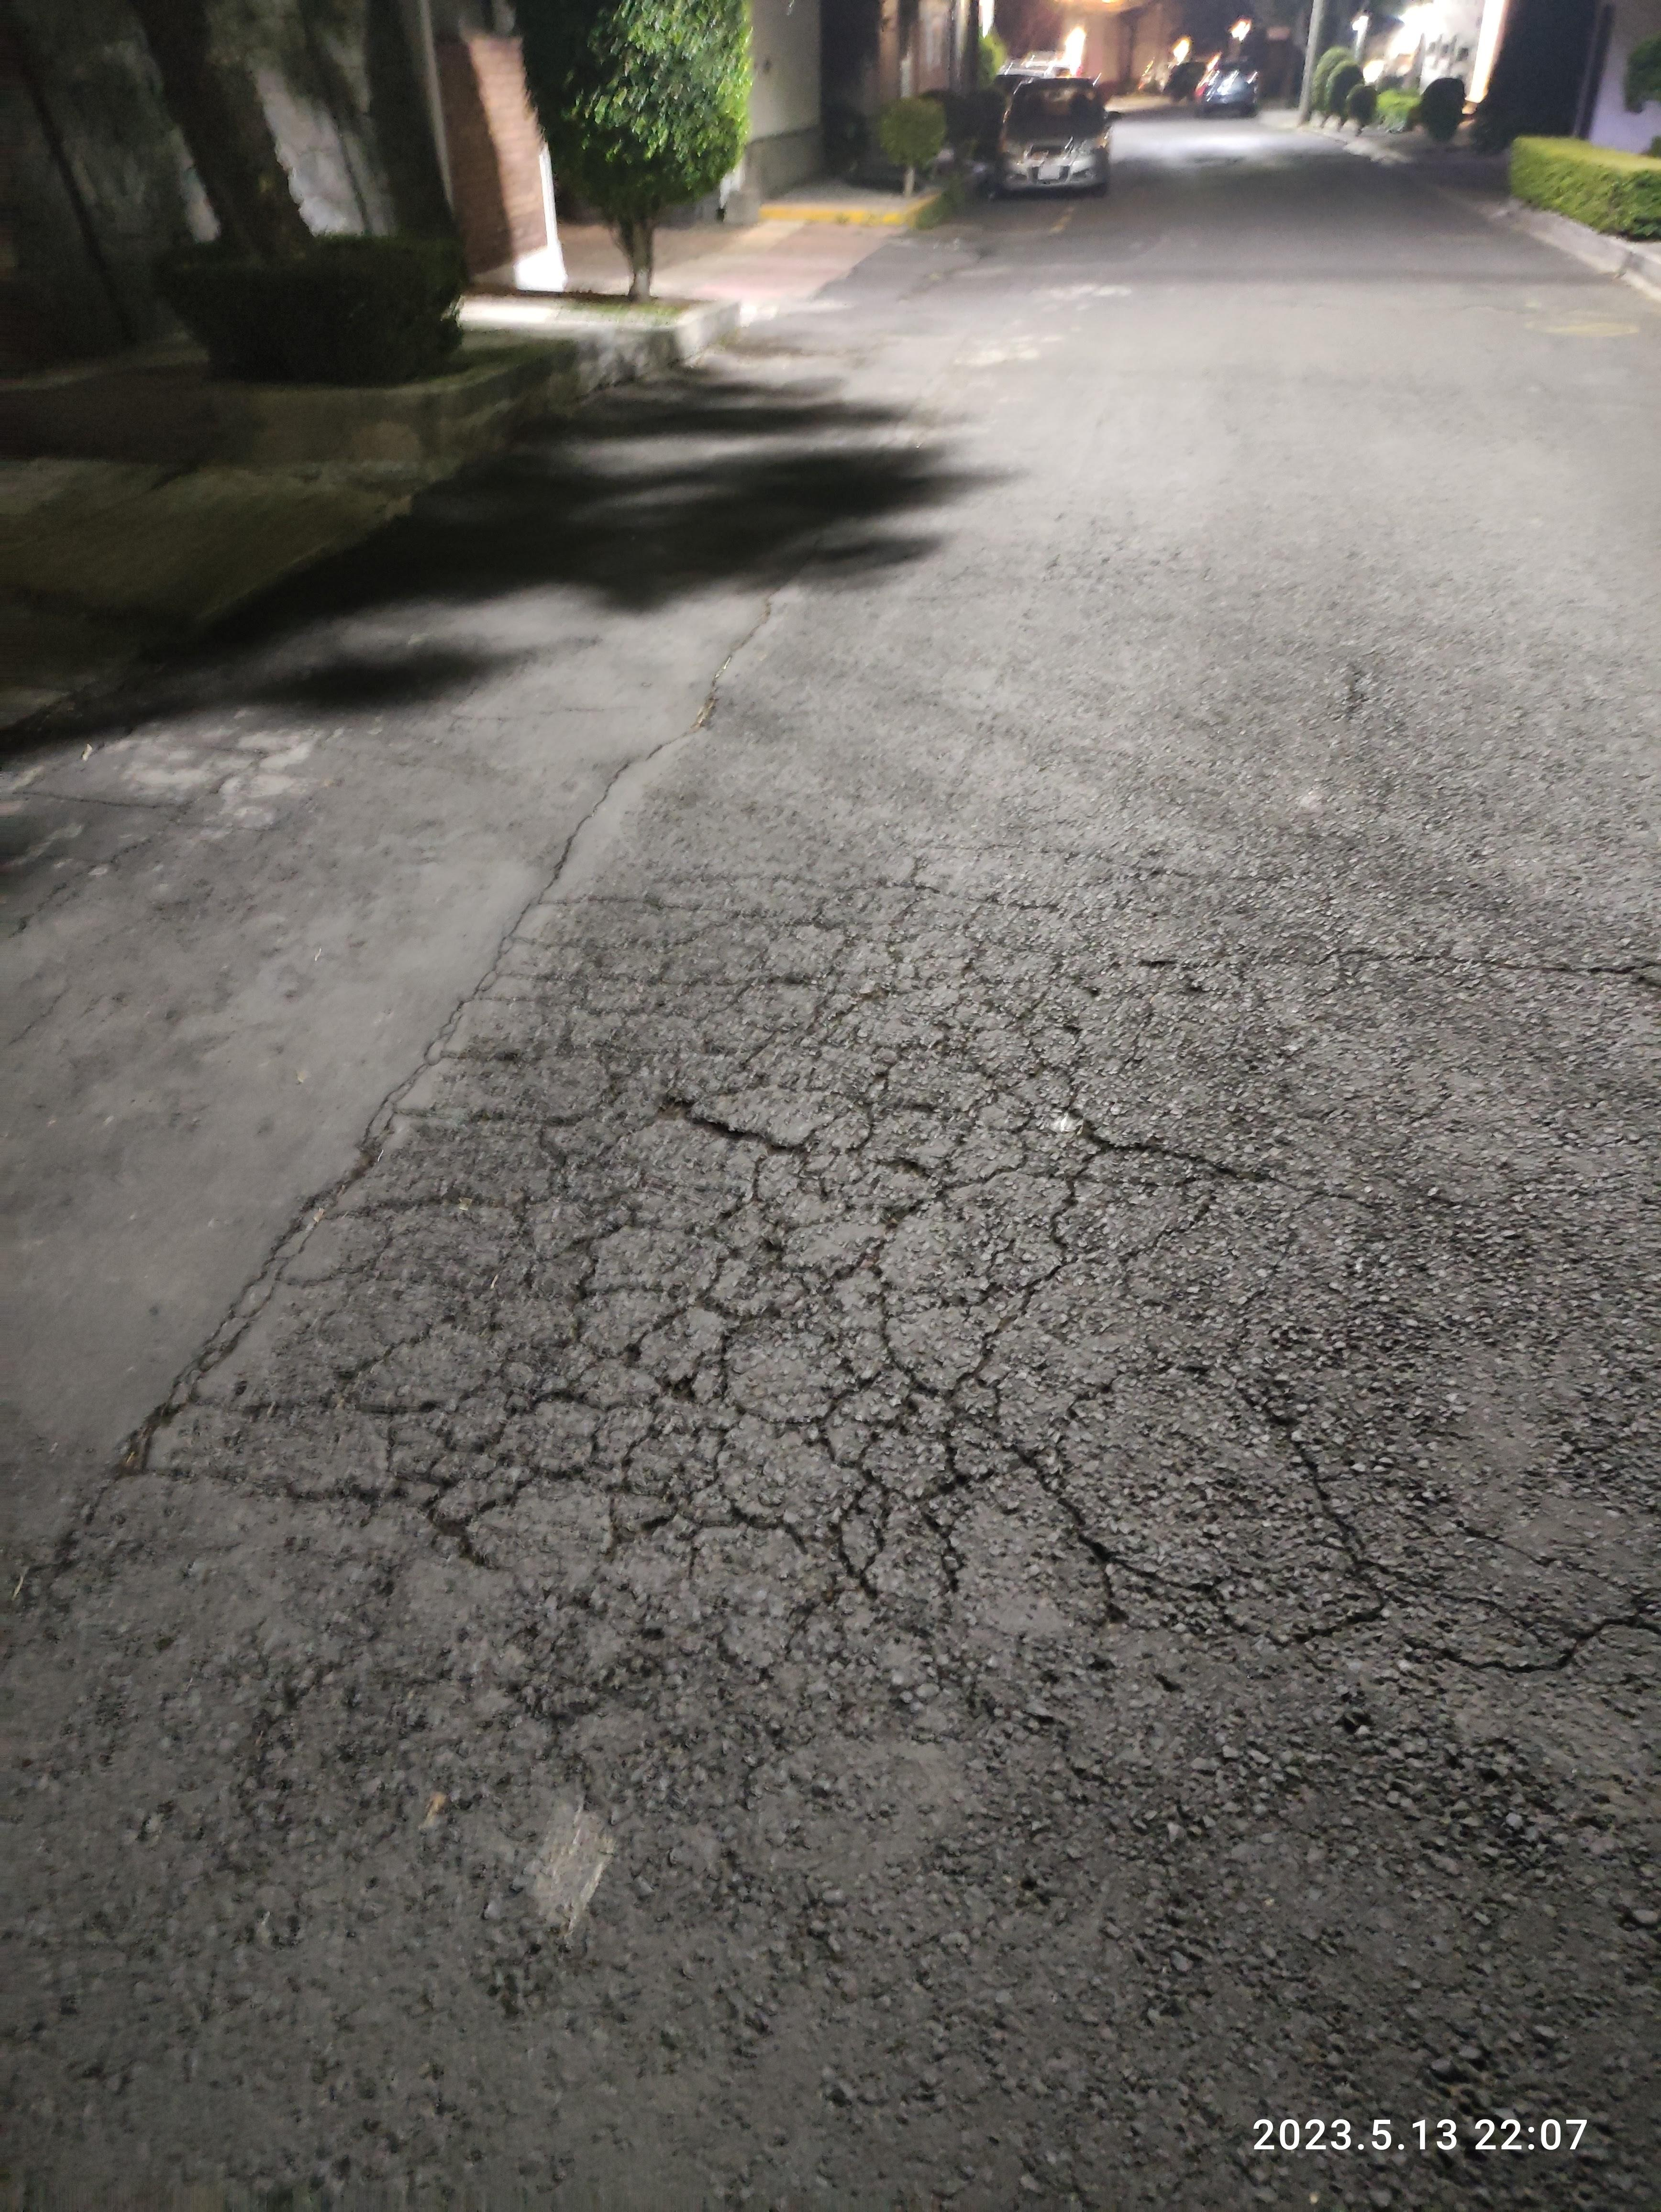alligator-crack: (721, 911, 1539, 1706), (141, 919, 782, 1671), (1082, 1781, 1661, 2212)
crack: (0, 1690, 616, 2212), (1178, 872, 1661, 1024)
